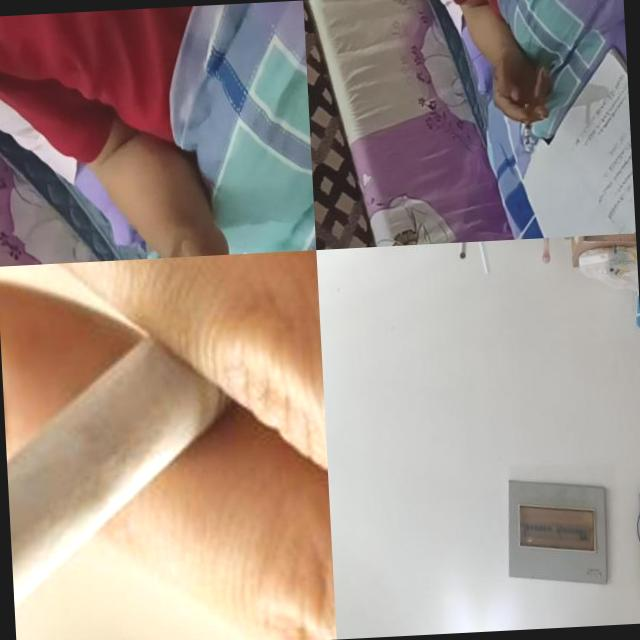cigarette: (0, 250, 327, 640), (474, 241, 492, 275), (523, 104, 533, 145), (458, 242, 472, 260)
